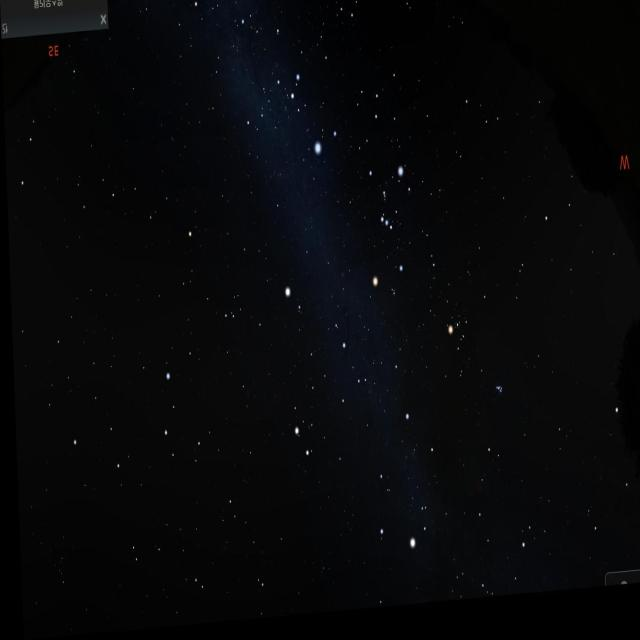canis_major: (281, 63, 347, 168)
canis_minor: (272, 278, 304, 330)
gemini: (277, 315, 374, 476)
leo: (61, 351, 208, 501)
orion: (356, 161, 411, 306)
pleiades: (492, 383, 504, 415)
taurus: (436, 302, 516, 447)
